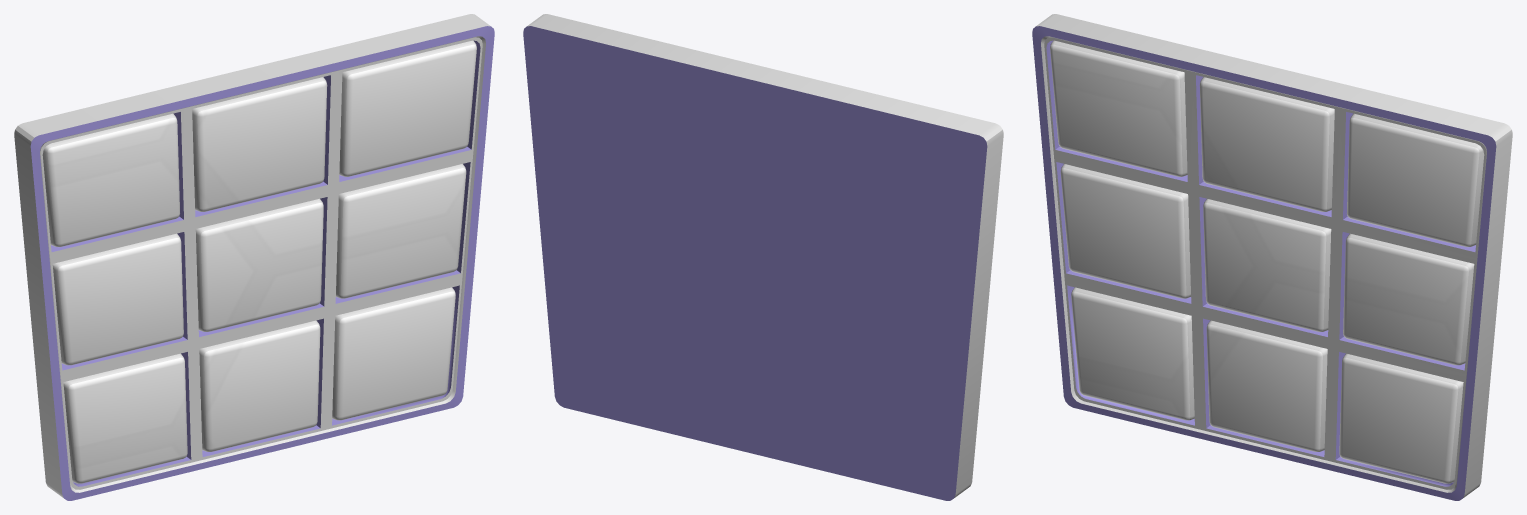
File: Merge-field.fbx
3 renders of one model, left to right at view 1: azimuth 30°, elevation 25°; view 2: azimuth 150°, elevation 25°; view 3: azimuth 330°, elevation 25°, orthographic.
Visible parts, largest first — view 1: Merge-field; view 2: Merge-field; view 3: Merge-field.
Part boxes in pixels (<box>): Merge-field: <box>14,14,494,500</box>; Merge-field: <box>523,14,1003,500</box>; Merge-field: <box>1032,14,1512,500</box>.
Bounding box in the file's own units: 277 × 213 × 18.06.
